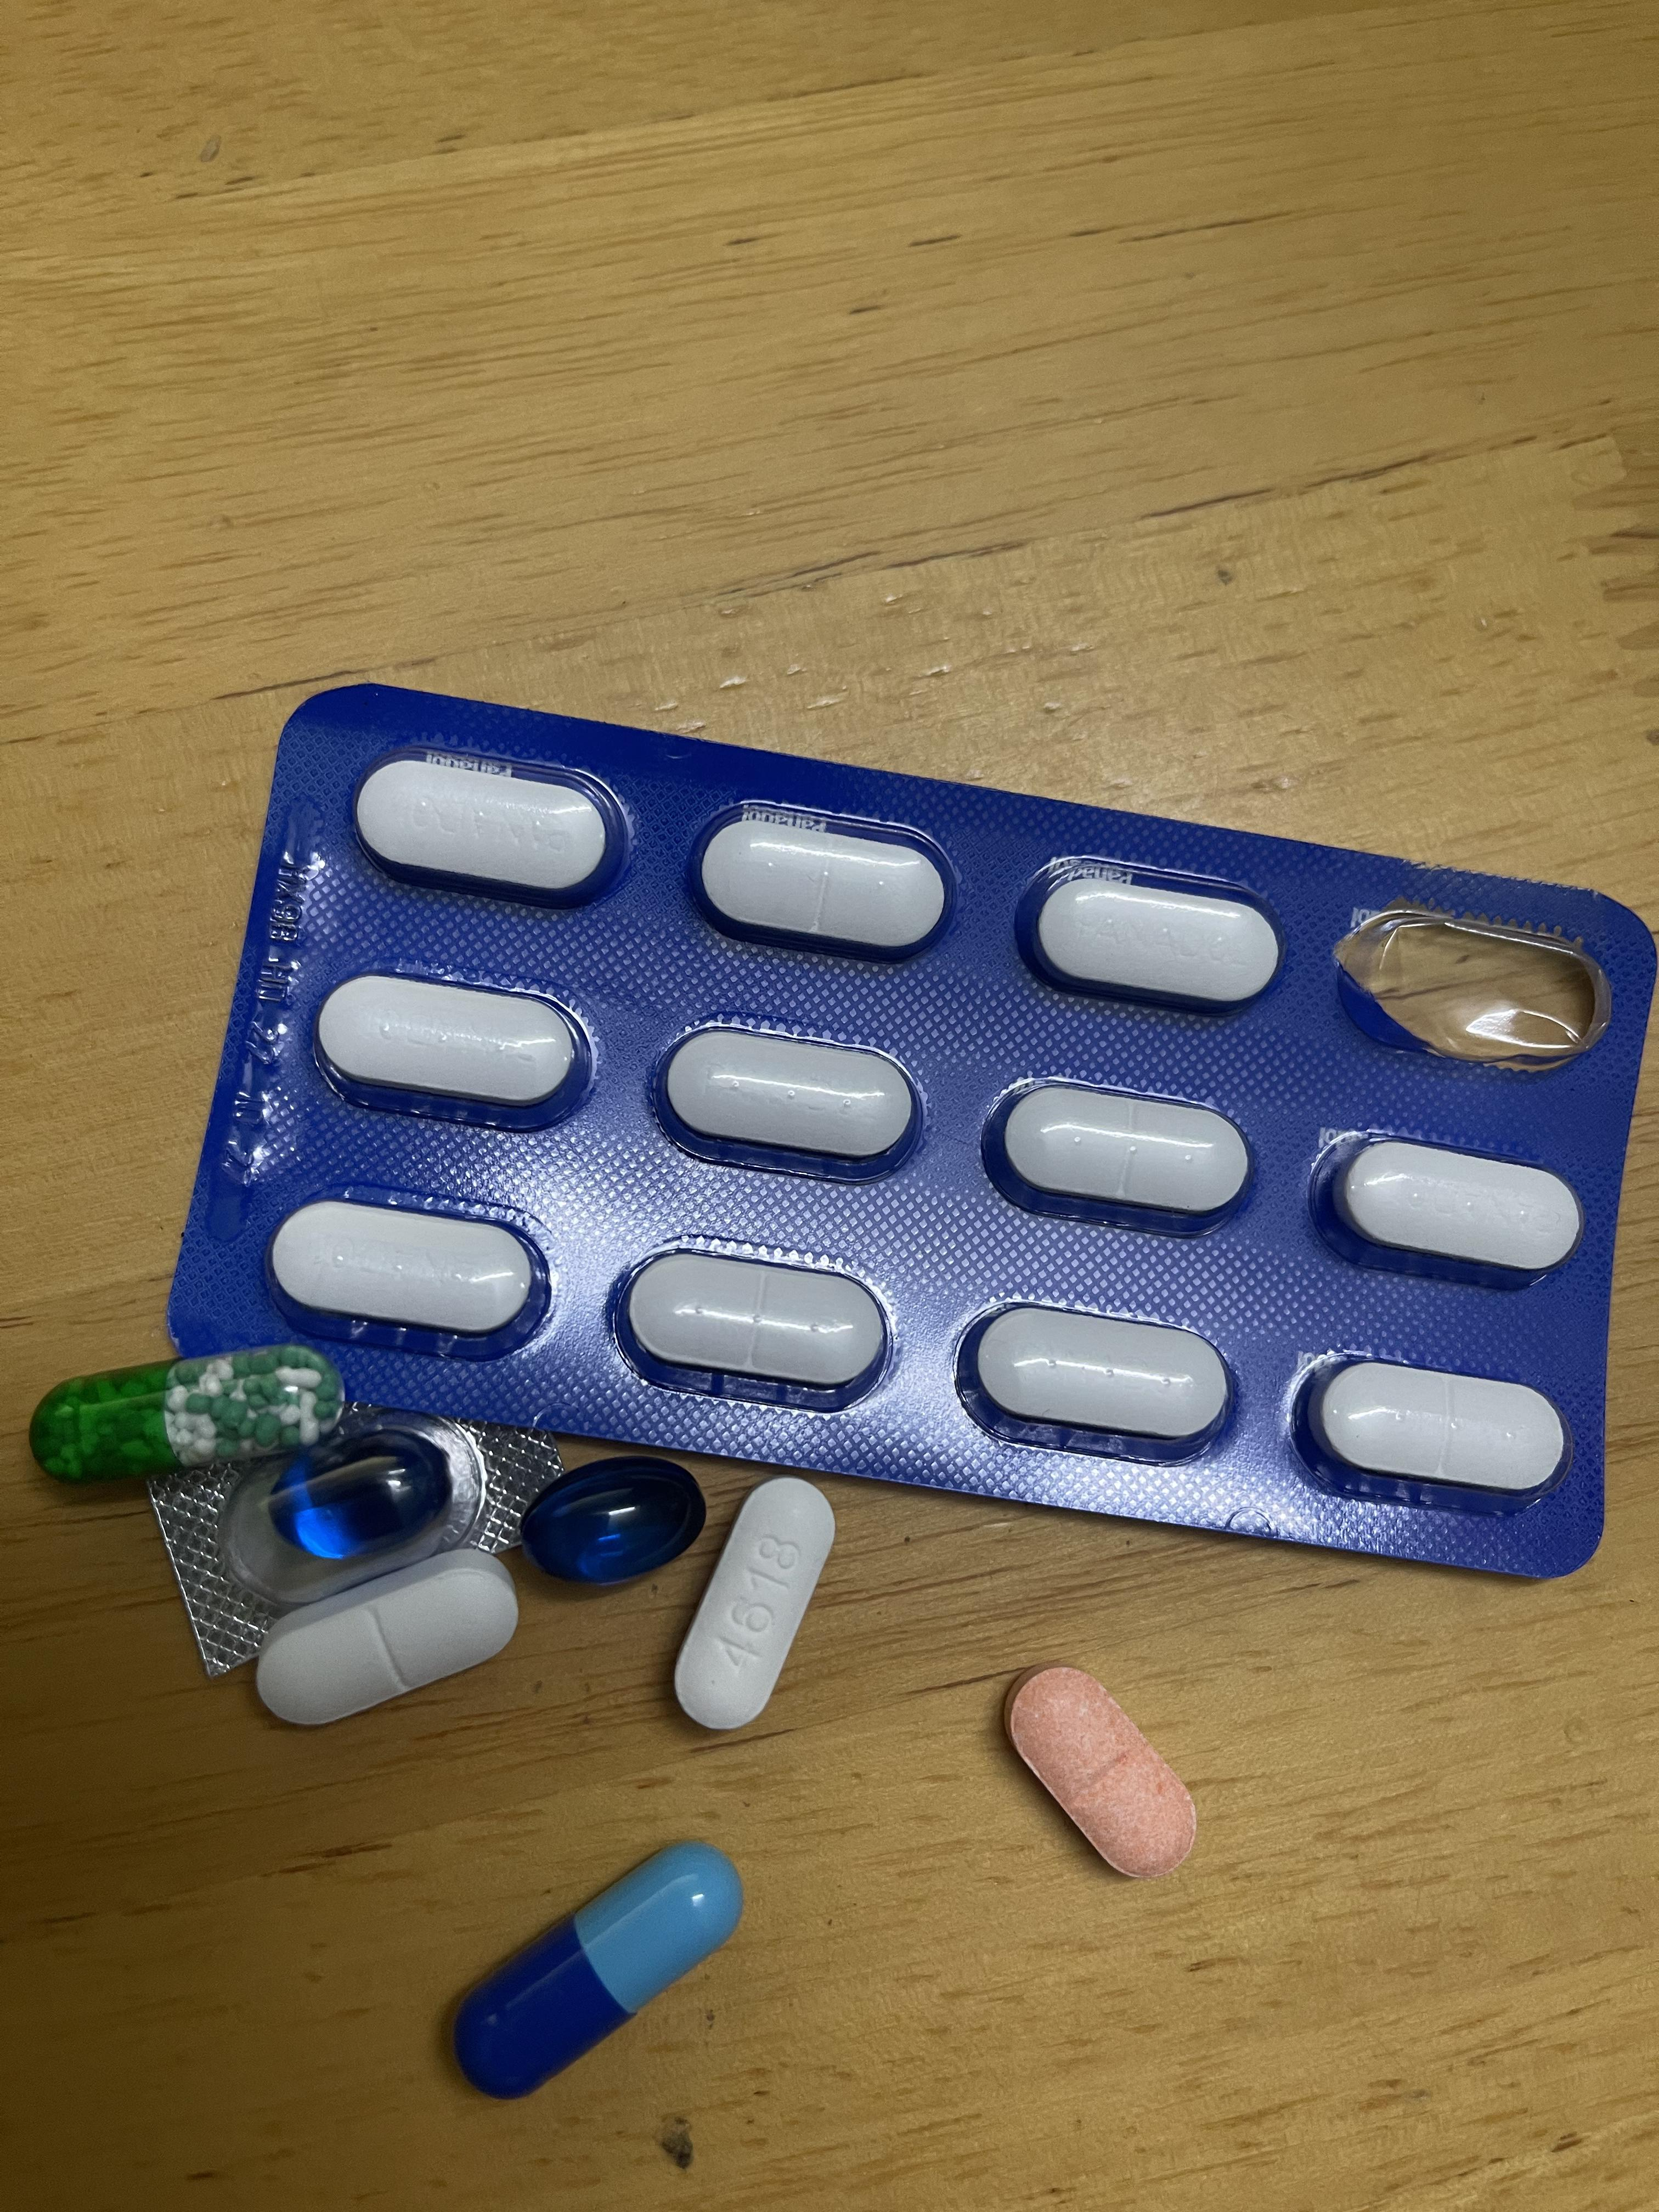Lincomyxin_500mg: (519, 1460, 704, 1587), (281, 1440, 450, 1559)
Loratadine_10mg: (1004, 1663, 1199, 1881)
Paracetamol_350mg: (253, 1541, 523, 1728), (350, 744, 631, 907), (312, 968, 594, 1129), (687, 798, 962, 960), (268, 1191, 549, 1350), (652, 1024, 927, 1183), (986, 1078, 1253, 1233), (1016, 855, 1276, 1014), (1328, 1137, 1591, 1278), (627, 1252, 884, 1393), (971, 1306, 1223, 1446), (1312, 1362, 1567, 1496)
Paracetamol_500mg: (673, 1480, 833, 1730)
Paracetamol_650mg: (33, 1350, 335, 1479)
pill: (457, 1846, 737, 2102)
